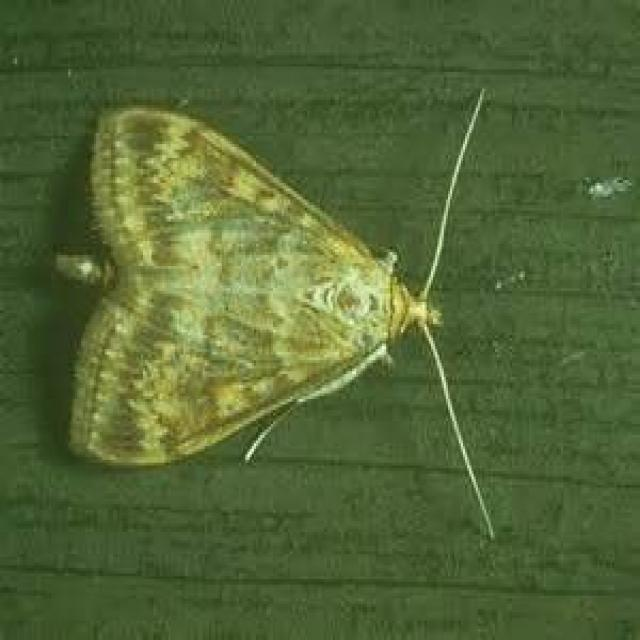cornborer-Adult-: (43, 71, 541, 549)
